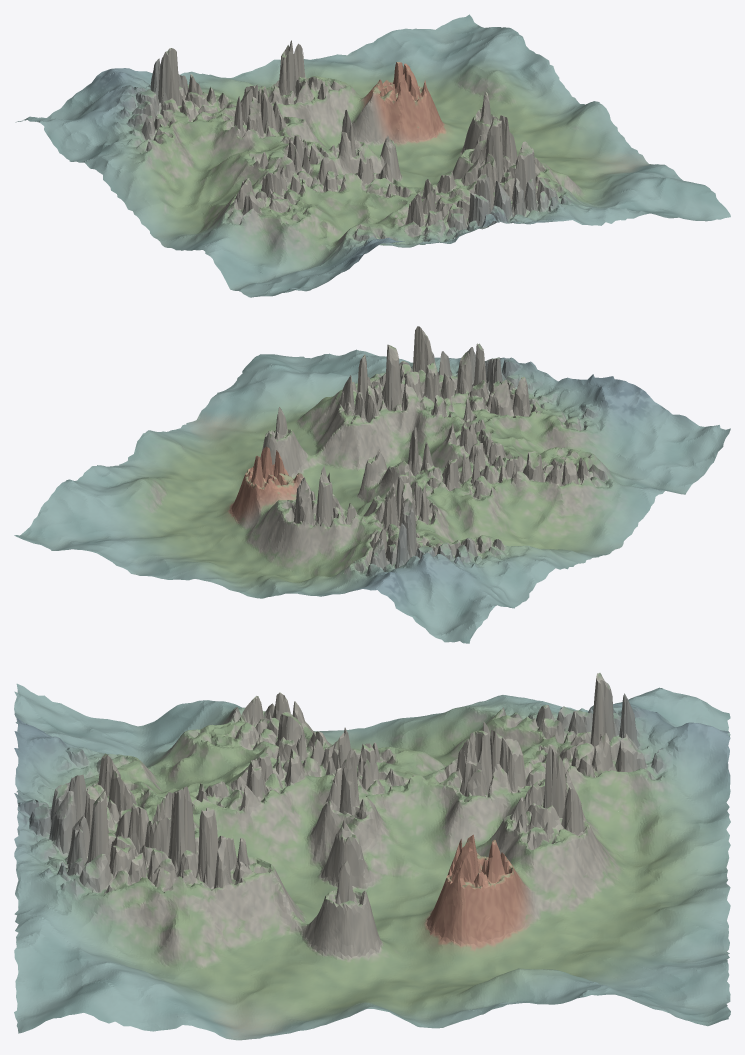
Rendered from sect_luoyun_ground.glb.
3 renders of one model, top to bottom at view 1: azimuth 30°, elevation 25°; view 2: azimuth 150°, elevation 25°; view 3: azimuth 270°, elevation 25°, orthographic. The views are drawn at different scales.
Parts seen in each view (by area): view 1: ground; view 2: ground; view 3: ground.
Part boxes in pixels (box(x1,y1,x2,y2)): ground: box(15, 14, 730, 297); ground: box(14, 326, 730, 643); ground: box(14, 673, 730, 1040).
Size of the model in its own units: 3785 by 826 by 3785.
